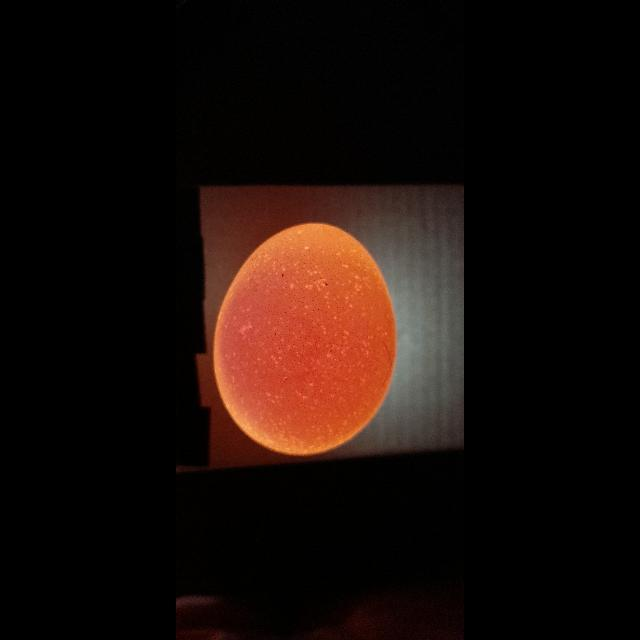Fertile: (208, 220, 400, 456)
